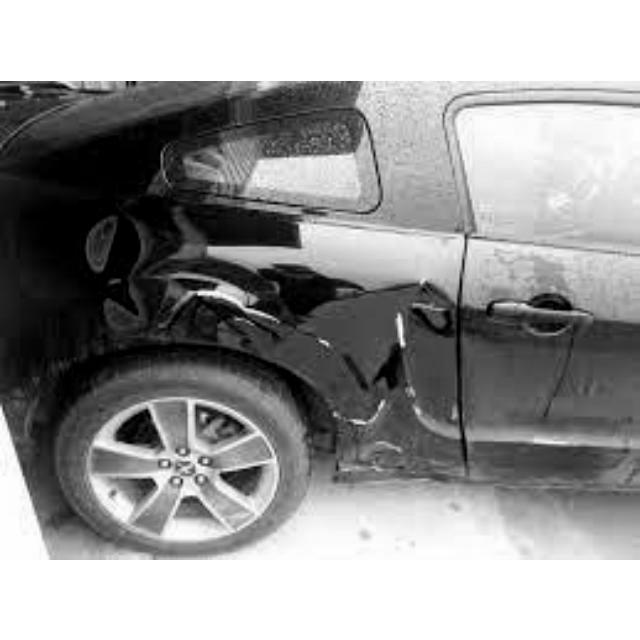quaterpanel-dent: (201, 186, 462, 480), (13, 204, 376, 396)
